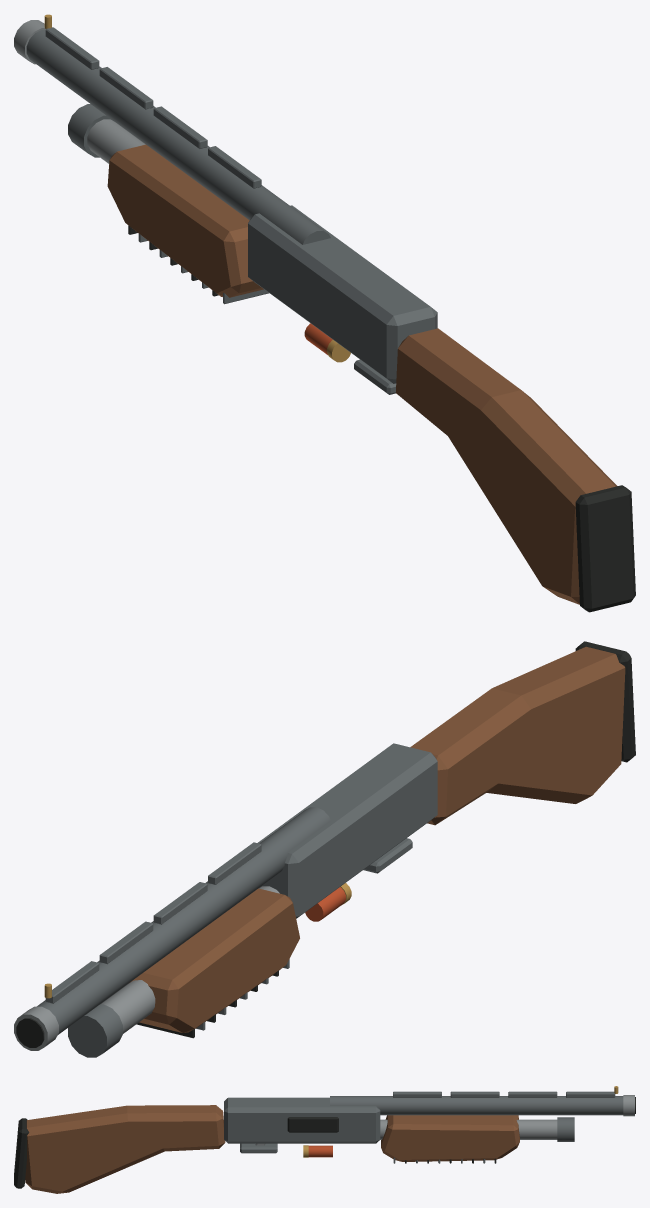
The model's file is shotgun.glb.
3 views of the same model, one above another, from view 1: azimuth 30°, elevation 25°; view 2: azimuth 150°, elevation 25°; view 3: azimuth 270°, elevation 25° (orthographic). The views are drawn at different scales.
Visible parts, largest first — view 1: Parkerized steel, Oiled walnut, Oiled walnut.001, Black rubber, Worn steel; view 2: Parkerized steel, Oiled walnut, Oiled walnut.001, Worn steel, Black rubber, Painted index mark; view 3: Parkerized steel, Oiled walnut, Oiled walnut.001, Black rubber, Worn steel, Painted index mark.
Part boxes in pixels (<box>): Parkerized steel: <box>26,27,437,394</box>; Oiled walnut: <box>396,328,617,604</box>; Oiled walnut.001: <box>107,144,263,297</box>; Black rubber: <box>575,485,635,612</box>; Worn steel: <box>14,20,145,163</box>; Parkerized steel: <box>37,743,437,1057</box>; Oiled walnut: <box>410,646,625,825</box>; Oiled walnut.001: <box>129,888,299,1032</box>; Worn steel: <box>14,886,279,1050</box>; Black rubber: <box>16,641,635,1047</box>; Painted index mark: <box>305,887,345,921</box>; Parkerized steel: <box>224,1091,623,1153</box>; Oiled walnut: <box>25,1105,225,1193</box>; Oiled walnut.001: <box>381,1115,519,1161</box>; Black rubber: <box>14,1097,635,1188</box>; Worn steel: <box>255,1095,634,1145</box>; Painted index mark: <box>308,1145,332,1157</box>.
Size of the model in its own units: 0.08 by 0.2131 by 1.16.
